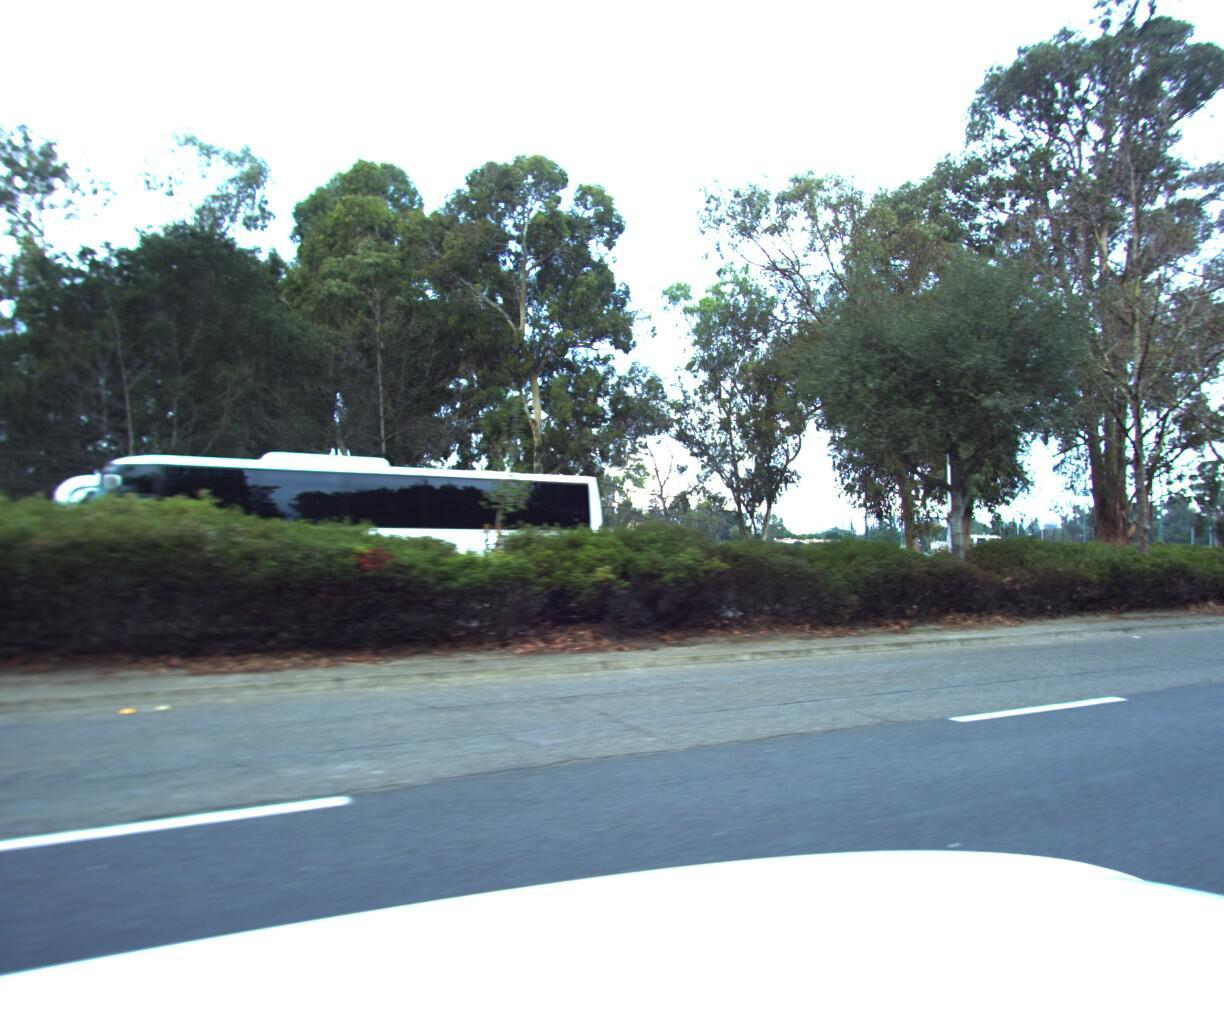truck: (39, 431, 631, 650)
